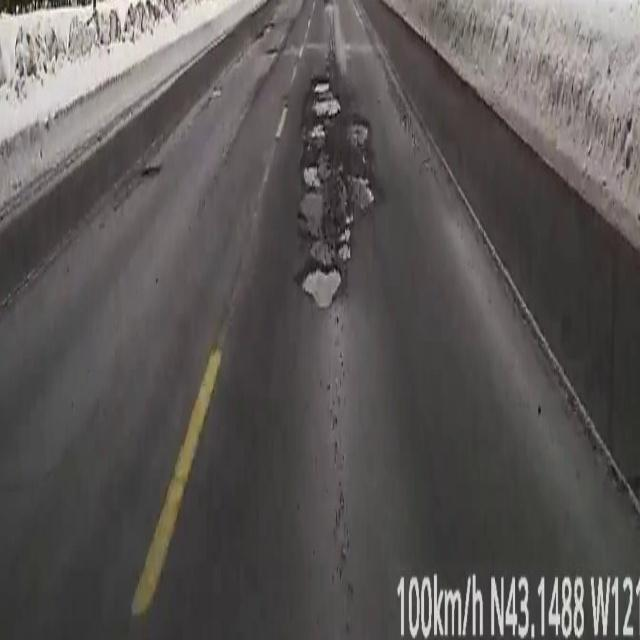pothole: (298, 40, 375, 309), (150, 148, 172, 162)
